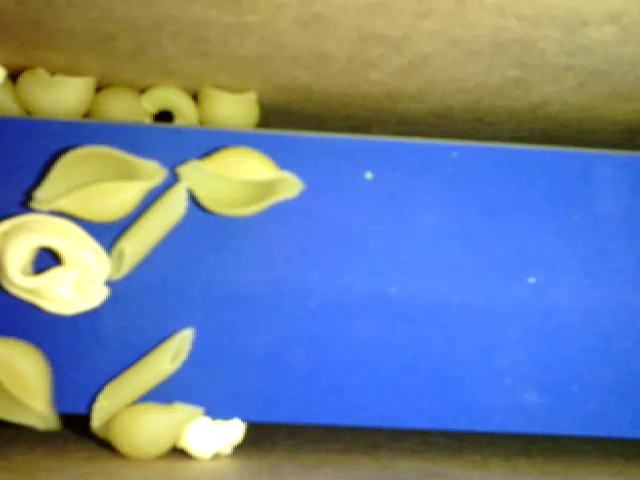elbow: (144, 82, 201, 126)
penne: (87, 323, 196, 431), (110, 175, 187, 279)
shell: (28, 142, 168, 221), (174, 146, 306, 215), (94, 399, 206, 460), (1, 337, 59, 430), (15, 64, 99, 118), (197, 85, 261, 129), (89, 86, 155, 125)
tortellini: (1, 212, 112, 315)
